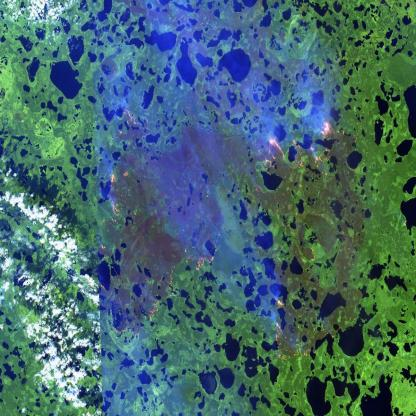fire: (258, 114, 344, 182)
